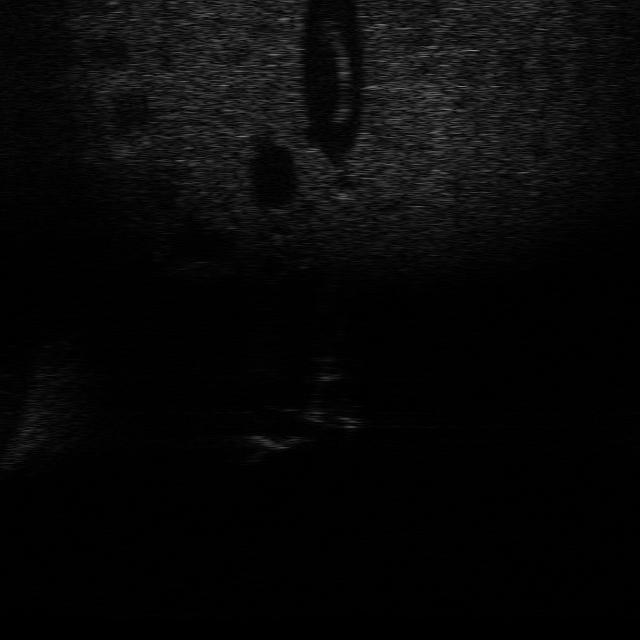ball: (296, 350, 349, 385)
square cage: (238, 430, 308, 458)
tyre: (295, 403, 366, 431)
